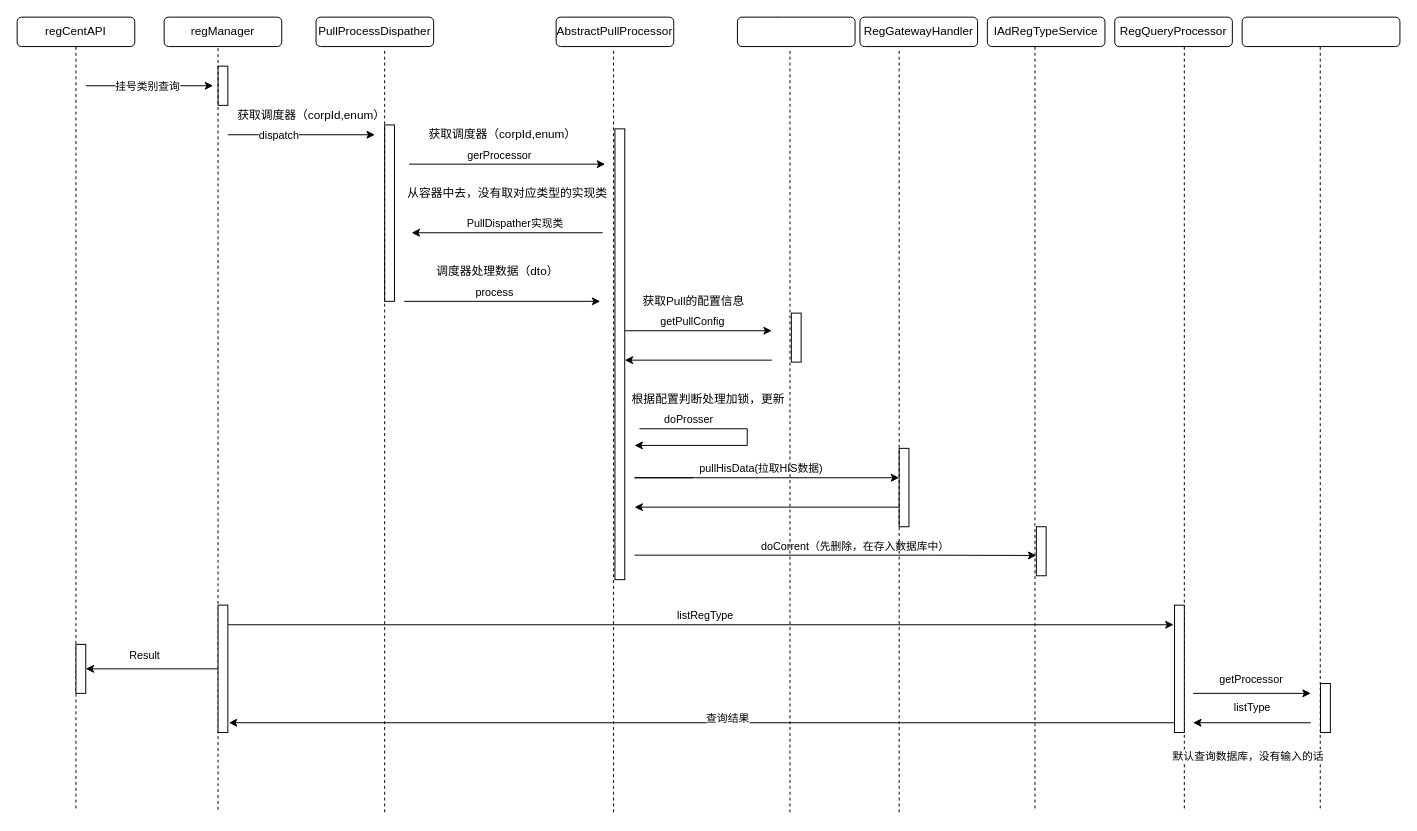
Some shapes in this 1417 by 831 pixel diagram are drawn without their labels. The centre of each missing label's shape, as x and y in pixels:
"AbstrasRegQueryProcessor" belongs at pixel 1320 31.
"PullConfigHelper" belongs at pixel 795 31.
